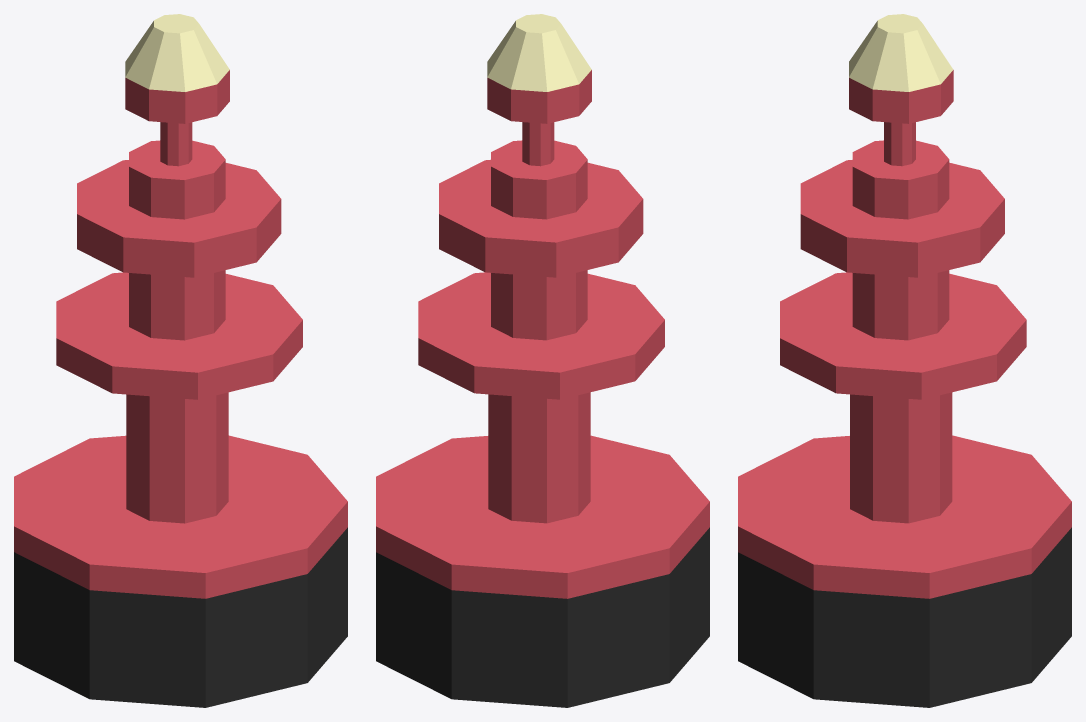
Rendered from Buoy.fbx.
3 renders of one model, left to right at view 1: azimuth 30°, elevation 25°; view 2: azimuth 150°, elevation 25°; view 3: azimuth 270°, elevation 25°, orthographic.
Parts seen in each view (by area): view 1: Buoy; view 2: Buoy; view 3: Buoy.
Part boxes in pixels (x1,y1,x2,y2): Buoy: [14, 14, 347, 707]; Buoy: [376, 14, 709, 707]; Buoy: [738, 14, 1071, 707].
Size of the model in its own units: 276 by 550 by 272.
